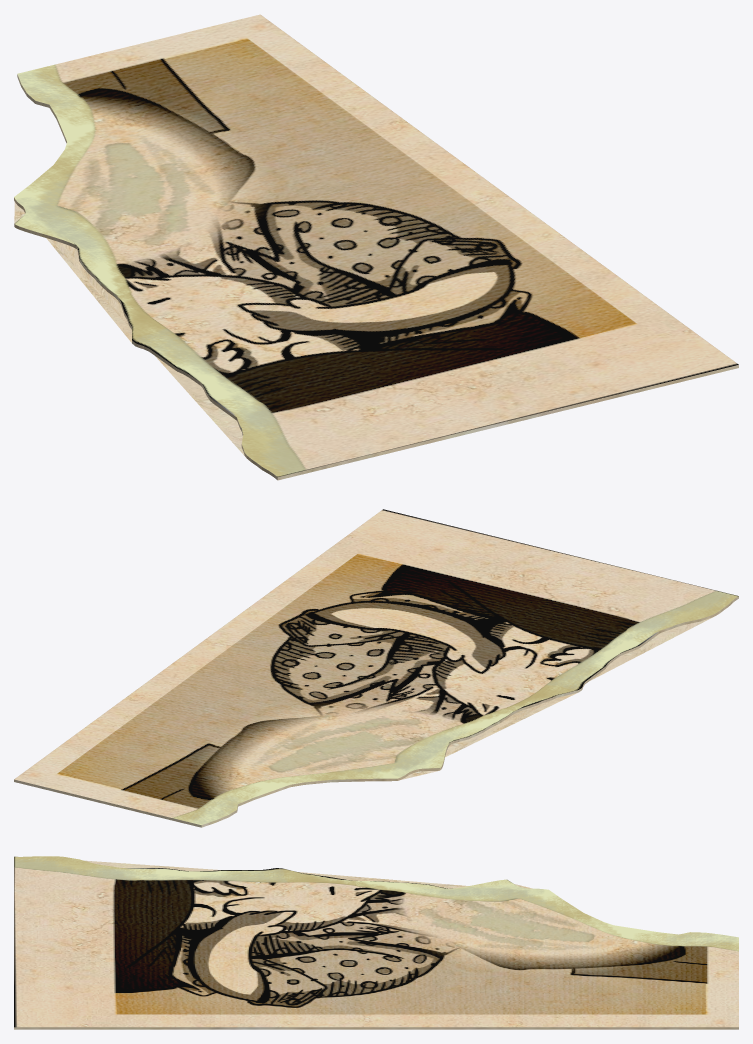
File: Photo 1.fbx
The picture shows the model from 3 angles, top to bottom: view 1: azimuth 30°, elevation 25°; view 2: azimuth 150°, elevation 25°; view 3: azimuth 270°, elevation 25°; orthographic projection. The views are drawn at different scales.
Parts seen in each view (by area): view 1: Plane.001; view 2: Plane.001; view 3: Plane.001.
Boxes of the visible parts, x1=… form: Plane.001: x1=14, y1=14, x2=738, y2=480; Plane.001: x1=14, y1=509, x2=738, y2=827; Plane.001: x1=14, y1=856, x2=738, y2=1029.
Bounding box in the file's own units: 7.49 × 0.05 × 13.42.
